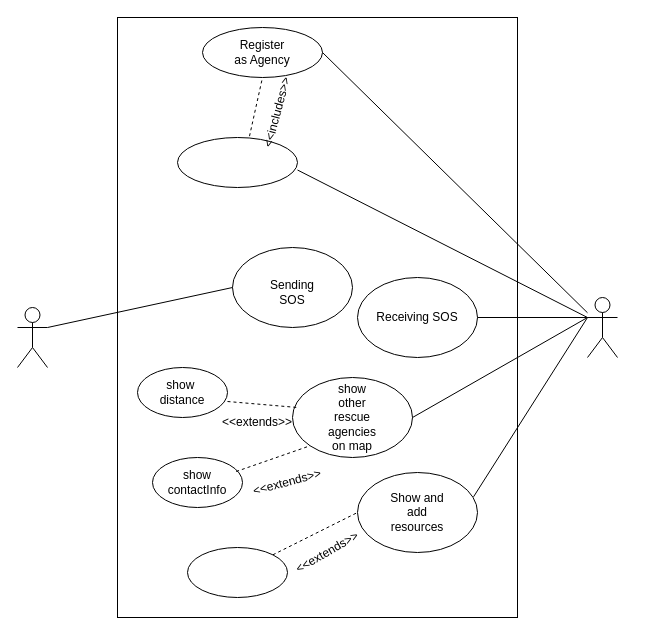
This 661x635 diagram has some shape labels left out. Each missing label, with the box of its shape:
Collaborate and send request: (186, 546, 288, 598)
login into portal: (176, 136, 298, 188)
Rescue Agency: (586, 296, 618, 358)
User: (16, 306, 48, 368)
